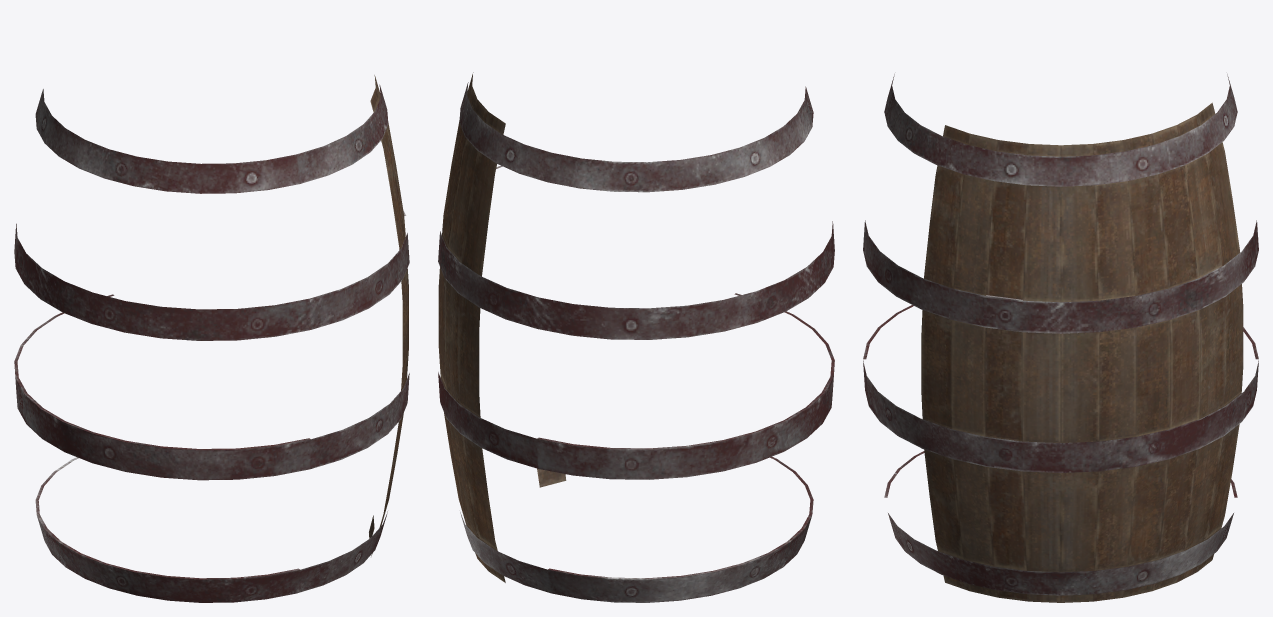
Rendered from Barrel_Convex1.gltf.
3 views of the same model, side by side, from view 1: azimuth 30°, elevation 25°; view 2: azimuth 150°, elevation 25°; view 3: azimuth 270°, elevation 25° (orthographic).
Visible parts, largest first — view 1: SM_Barrel_01.004, SM_Barrel_01.005, SM_Barrel_01.003, SM_Barrel_01.006, SM_Barrel_01.007; view 2: SM_Barrel_01.002, SM_Barrel_01.004, SM_Barrel_01.005, SM_Barrel_01.003, SM_Barrel_01.006; view 3: SM_Barrel_01.007, SM_Barrel_01.002, SM_Barrel_01.004, SM_Barrel_01.001, SM_Barrel_01.005, SM_Barrel_01.003, SM_Barrel_01.006.
Boxes of the visible parts, x1=… form: SM_Barrel_01.004: x1=14, y1=223, x2=409, y2=340; SM_Barrel_01.005: x1=14, y1=294, x2=409, y2=480; SM_Barrel_01.003: x1=35, y1=84, x2=388, y2=193; SM_Barrel_01.006: x1=35, y1=457, x2=387, y2=602; SM_Barrel_01.007: x1=370, y1=75, x2=408, y2=556; SM_Barrel_01.002: x1=438, y1=72, x2=505, y2=582; SM_Barrel_01.004: x1=438, y1=221, x2=834, y2=339; SM_Barrel_01.005: x1=438, y1=293, x2=834, y2=479; SM_Barrel_01.003: x1=459, y1=82, x2=813, y2=192; SM_Barrel_01.006: x1=460, y1=456, x2=813, y2=602; SM_Barrel_01.007: x1=921, y1=125, x2=1099, y2=602; SM_Barrel_01.002: x1=1123, y1=102, x2=1243, y2=597; SM_Barrel_01.004: x1=863, y1=220, x2=1258, y2=333; SM_Barrel_01.001: x1=1093, y1=140, x2=1136, y2=601; SM_Barrel_01.005: x1=863, y1=305, x2=1258, y2=472; SM_Barrel_01.003: x1=884, y1=74, x2=1237, y2=186; SM_Barrel_01.006: x1=884, y1=451, x2=1237, y2=595.
Size of the model in its own units: 0.8008 by 1.02 by 0.8008.
1 material, 1 textured.
